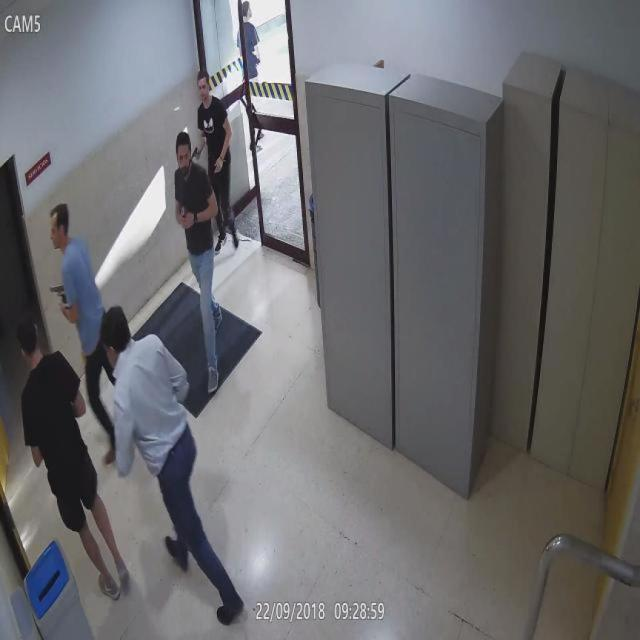pistol: (46, 282, 68, 306), (180, 203, 190, 231), (190, 143, 202, 161)
